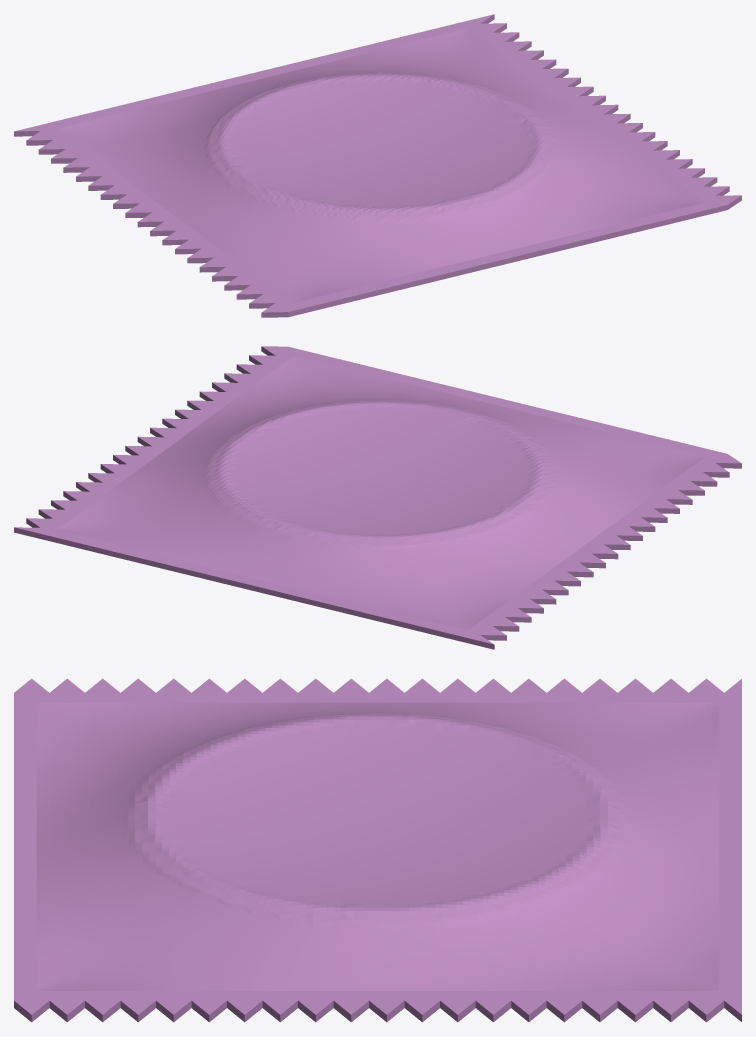
The model's file is Condón.fbx.
The picture shows the model from 3 angles, top to bottom: view 1: azimuth 30°, elevation 25°; view 2: azimuth 150°, elevation 25°; view 3: azimuth 270°, elevation 25°; orthographic projection. The views are drawn at different scales.
Parts seen in each view (by area): view 1: Plane; view 2: Plane; view 3: Plane.
Part boxes in pixels (x1,y1,x2,y2): Plane: [14, 14, 741, 317]; Plane: [14, 346, 741, 649]; Plane: [14, 678, 741, 1022].
Size of the model in its own units: 350 by 36.24 by 320.
